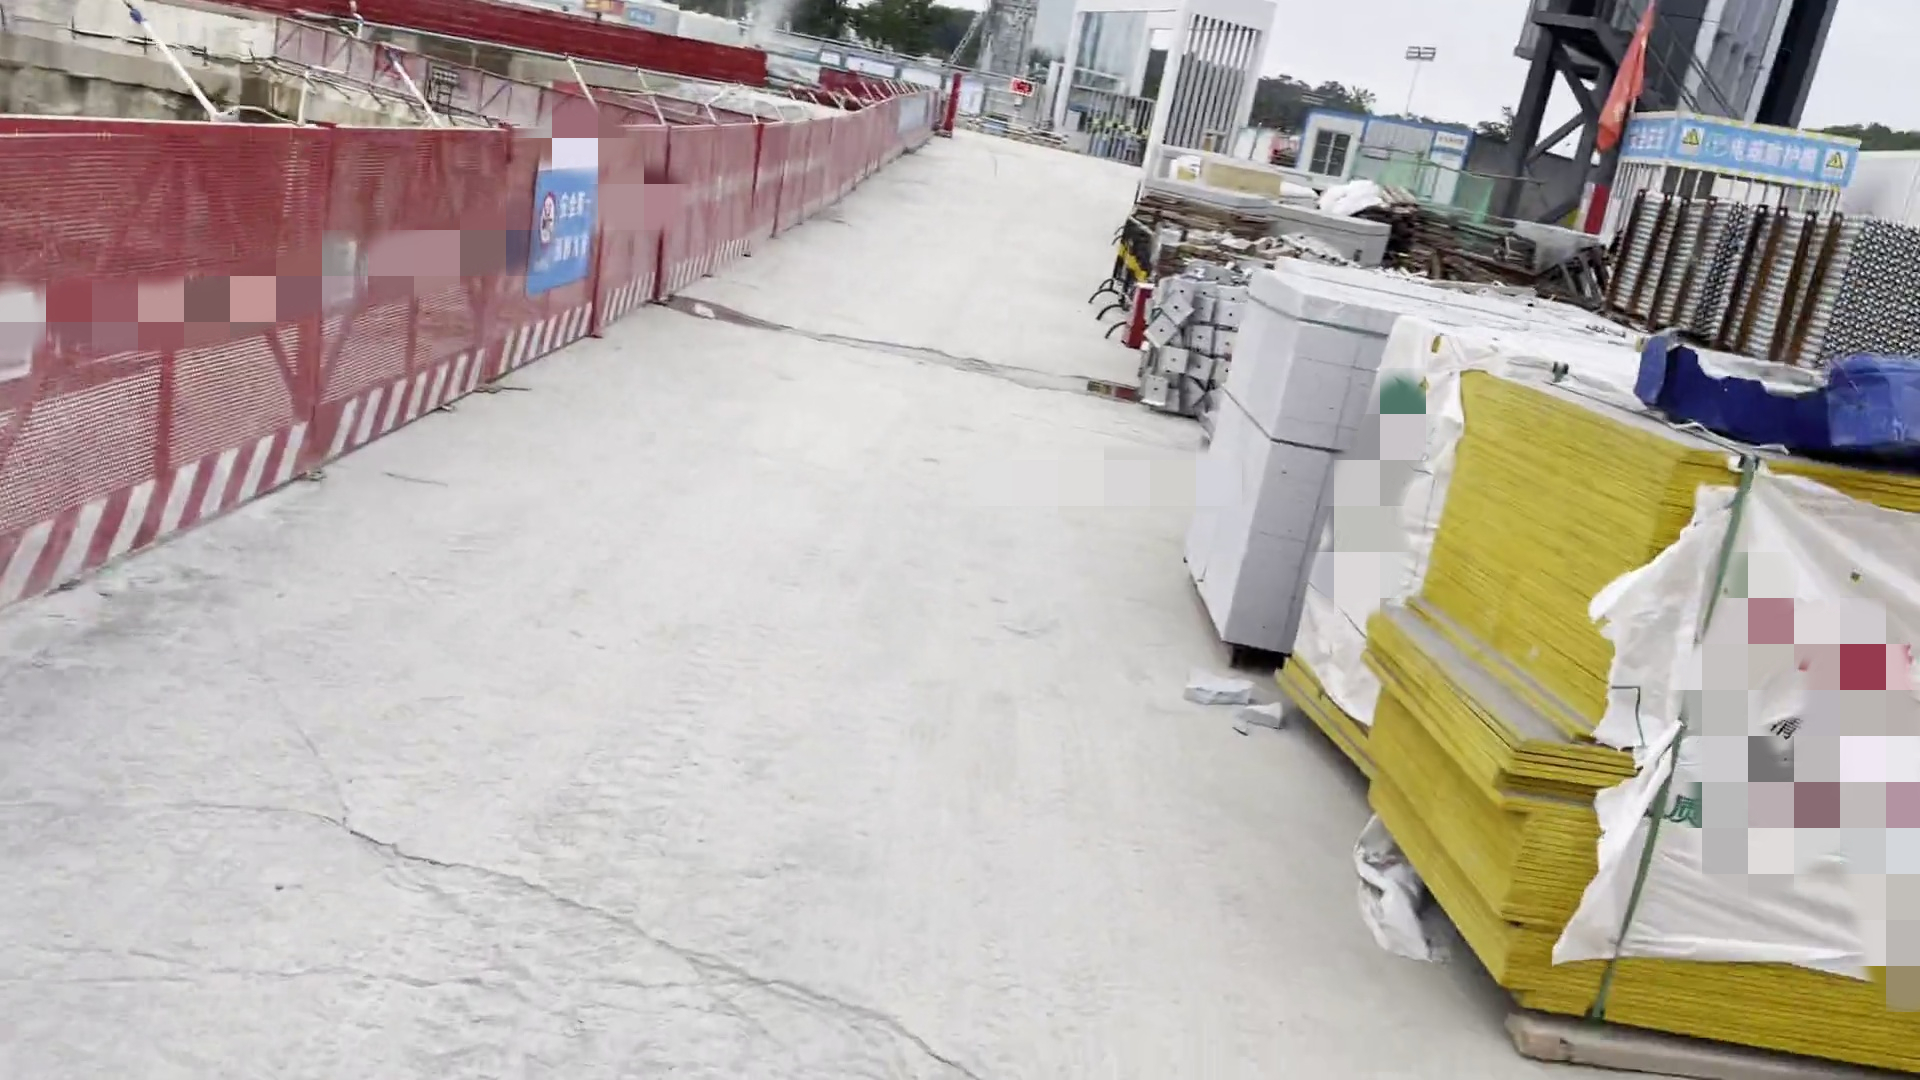board: (1364, 361, 1917, 1080)
brick: (1188, 225, 1569, 632)
fence: (1, 88, 938, 633), (225, 1, 775, 95)
scaffold: (1596, 189, 1920, 392)
